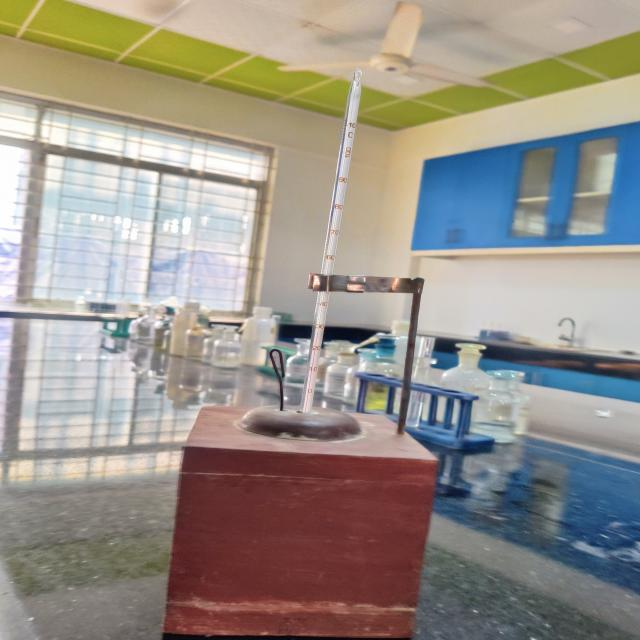Calorimeter: (120, 38, 524, 640)
